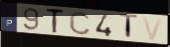4: (94, 13, 114, 38)
9: (21, 7, 41, 32)
C: (68, 10, 92, 36)
T: (118, 13, 139, 41), (45, 8, 66, 34)
V: (141, 16, 165, 42)
